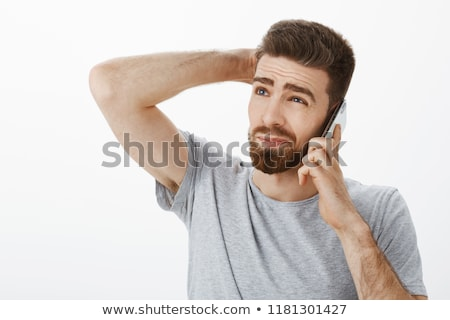phone: (312, 98, 348, 164)
talk: (243, 75, 354, 214)
